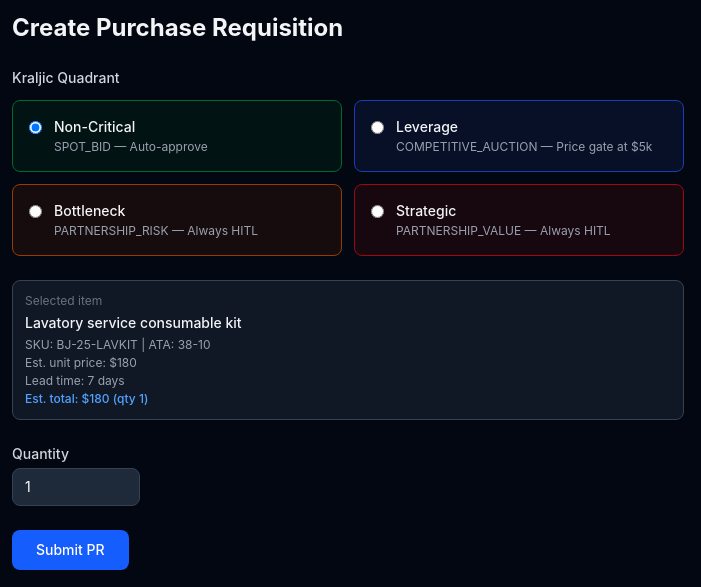
PRForm › recomputes the estimated total client-side when quantity changes
Expected: the text "Lavatory service consumable kit" is shown, [25,314,242,331]
Step 1. Replace the text in the number field with "3" → (76, 487), box [12,468,140,506]
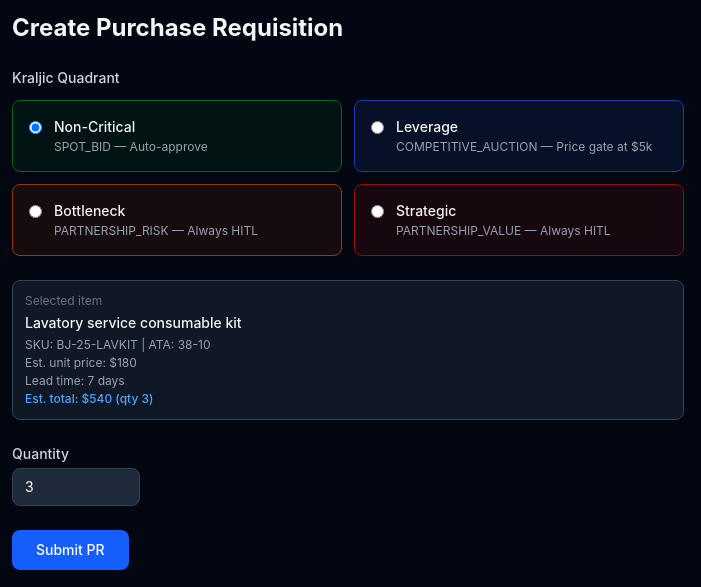
Expected: the text "Est. total: $540 (qty 3)" is shown, [25,391,154,406]
